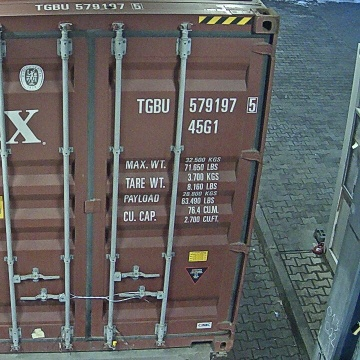serial_id: (137, 98, 256, 113)
